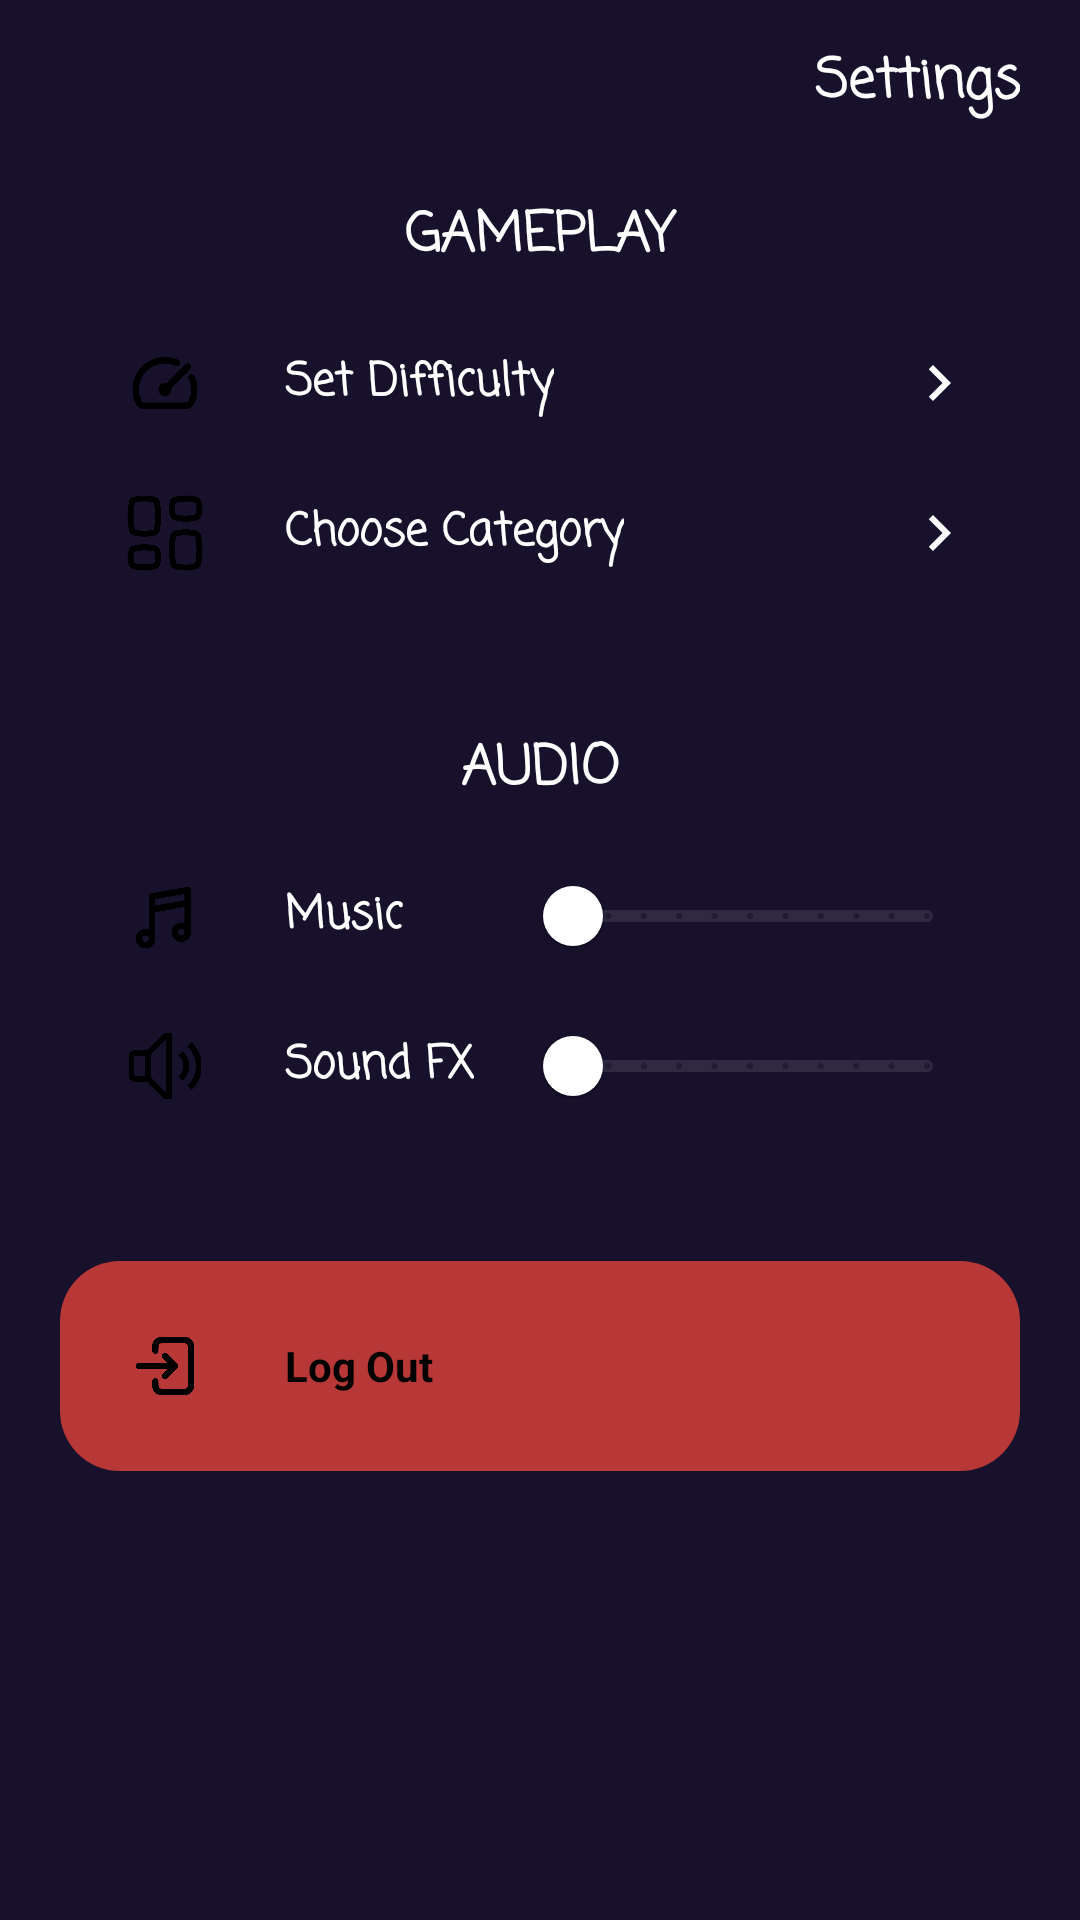

Screen size 1080px×1920px. Icon name, then its box in pixels as box(x1, y1, x2, y2):
gauge: box(133, 357, 197, 409)
right arrow: box(929, 365, 951, 401), box(929, 515, 951, 551)
